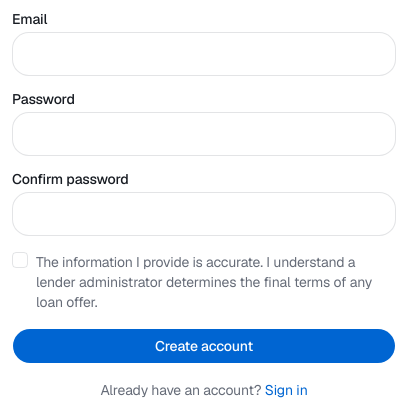
SignupForm › shows a confirmation message once signup returns a pending verification flow
Type "new.customer@example.com" into the field labelled "Email".
click(204, 54); type("new.customer@example.com")  # box [12,32,396,76]
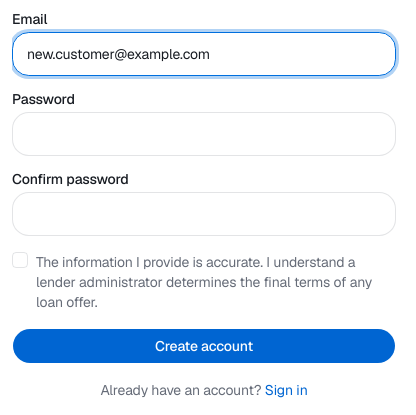
Type "a-strong-password-1" into the password field labelled "Password".
click(204, 134); type("a-strong-password-1")  # box [12,112,396,156]
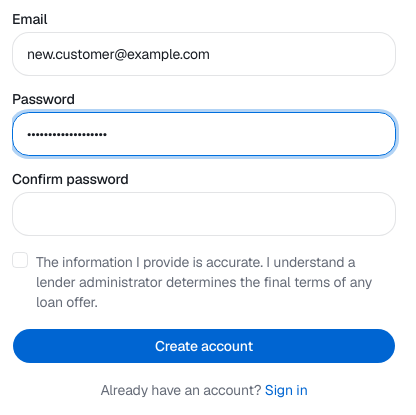
Type "a-strong-password-1" into the password field labelled "Confirm password".
click(204, 214); type("a-strong-password-1")  # box [12,192,396,236]
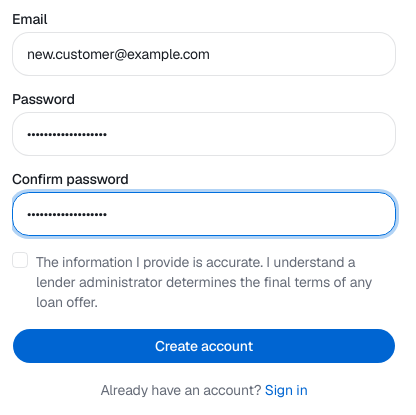
Click the 1st checkbox.
click(20, 260)  # box [12,252,28,268]
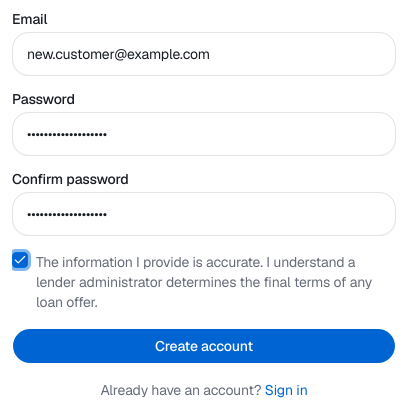
Click the button "Create account".
click(204, 346)  # box [12,328,396,364]
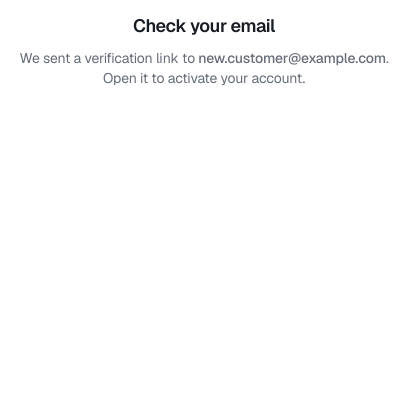
Now the heading "Check your email" is shown, box [133,14,275,37]
Now the text "new.customer@example.com" is shown, box [198,49,386,67]
